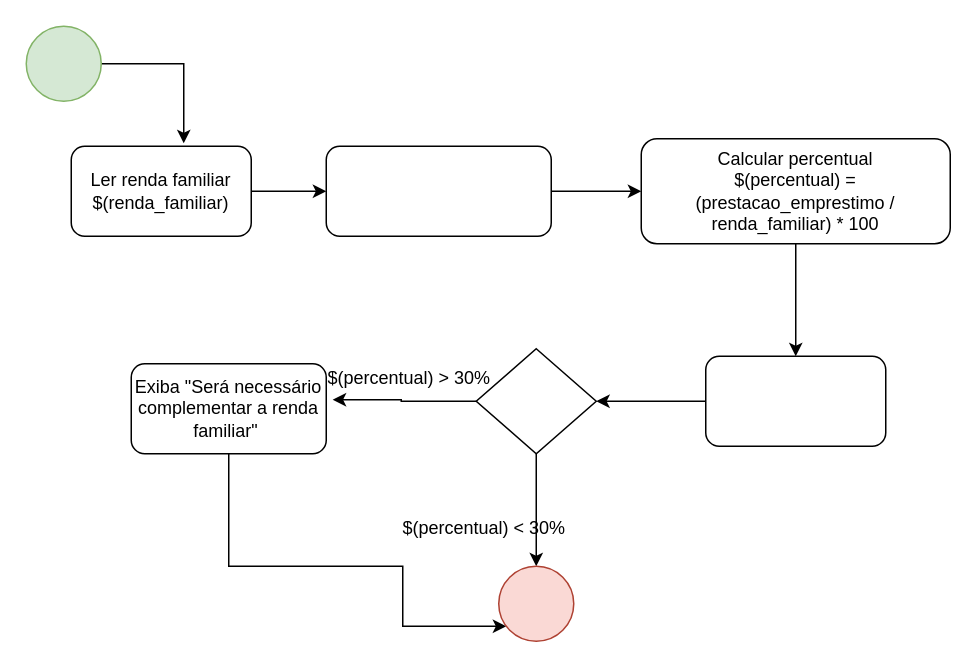
Image size: 977x668. Some labels were removed from this diagram. The centre of each missing label's shape, as x and y in pixels:
"Exibir na tela o percentual" belongs at (795,400).
"Ler prestação $(prestacao_emprestimo)" belongs at (438,190).
